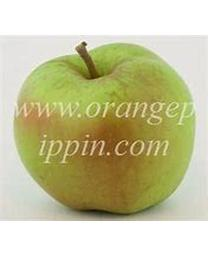apple: (12, 41, 196, 214)
